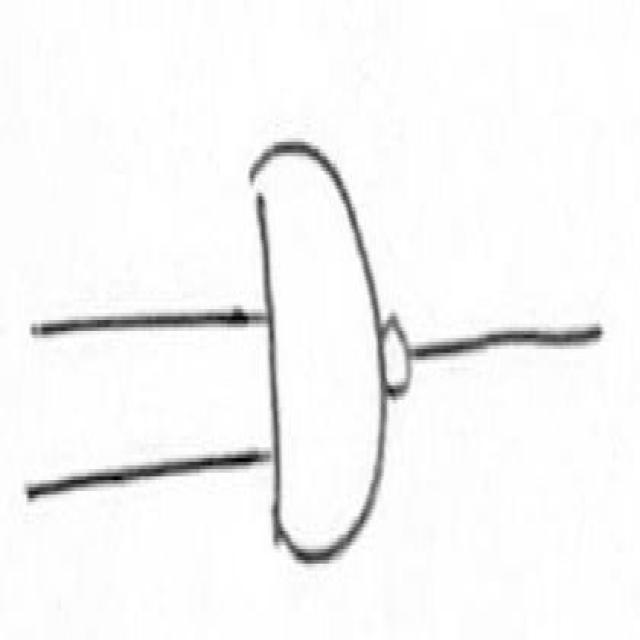NAND: (225, 95, 430, 624)
